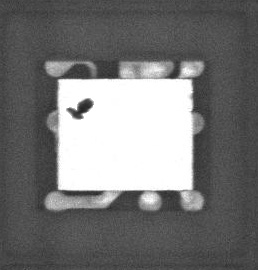DIE_INK: (63, 103, 89, 125)
